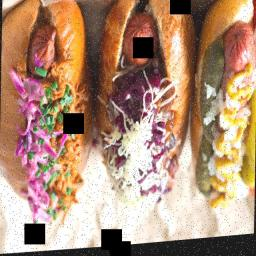hotdog: (0, 0, 96, 238), (95, 0, 193, 222), (189, 0, 256, 222)
